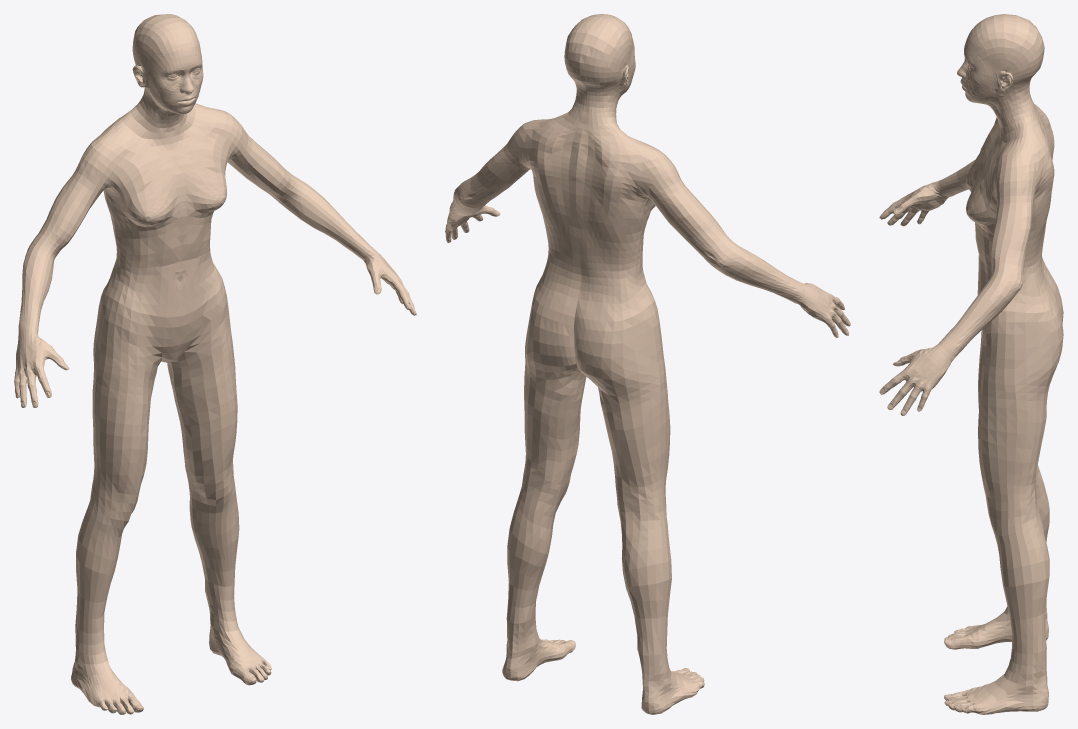
File: female-mature-lean-high.glb
The picture shows the model from 3 angles, left to right: view 1: azimuth 30°, elevation 25°; view 2: azimuth 150°, elevation 25°; view 3: azimuth 270°, elevation 25°; orthographic projection.
Visible parts, largest first — view 1: world; view 2: world; view 3: world.
Part boxes in pixels (x1,y1,x2,y2): world: (14,14,416,714); world: (445,14,850,714); world: (879,14,1063,714).
Bounding box in the file's own units: 1.12 × 1.81 × 0.4577.
